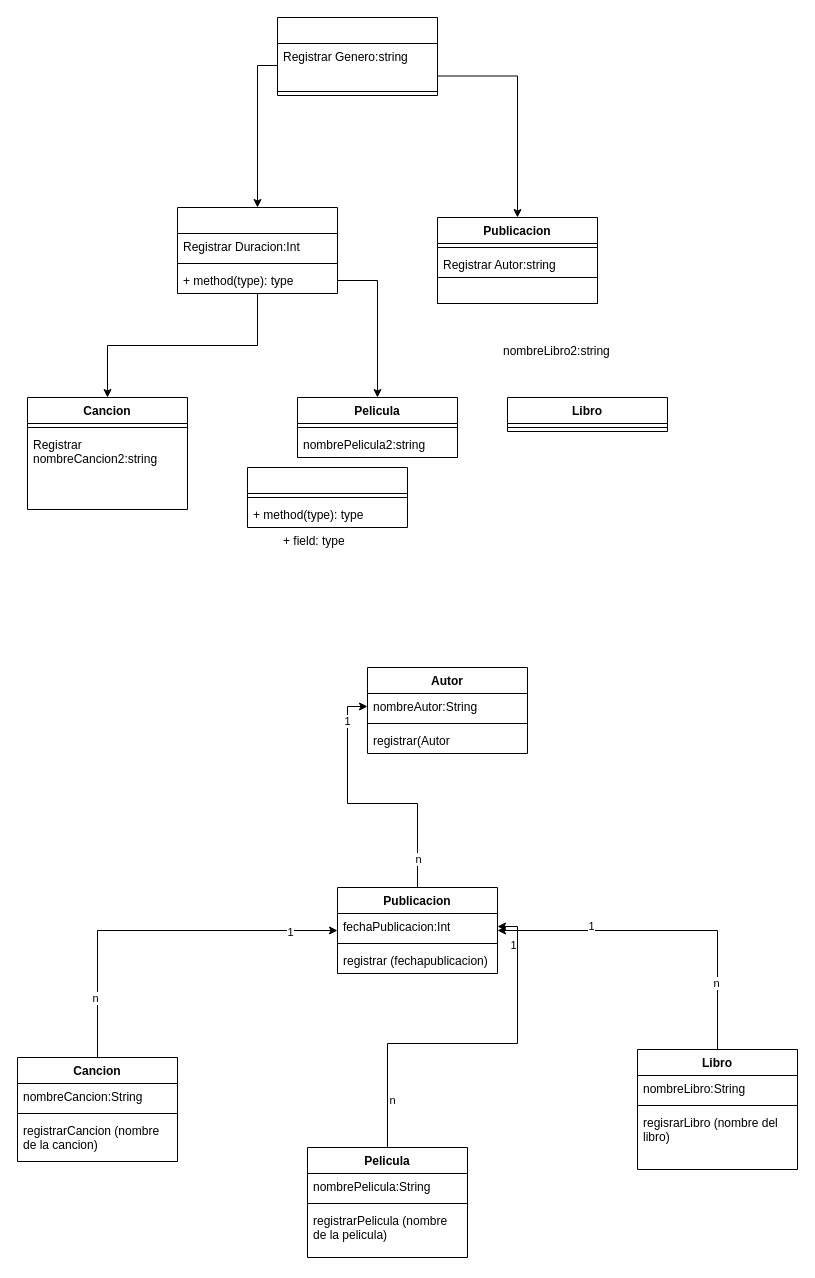
Some shapes in this 815 by 1278 pixel diagram are drawn without their labels. The box of each missing label's shape, as (x1, y1, x2, y2) in pixels:
Classname: (246, 466, 408, 528)
Object: (436, 276, 598, 304)
Obra: (276, 16, 438, 96)
ObraAudivisual: (176, 206, 338, 294)
